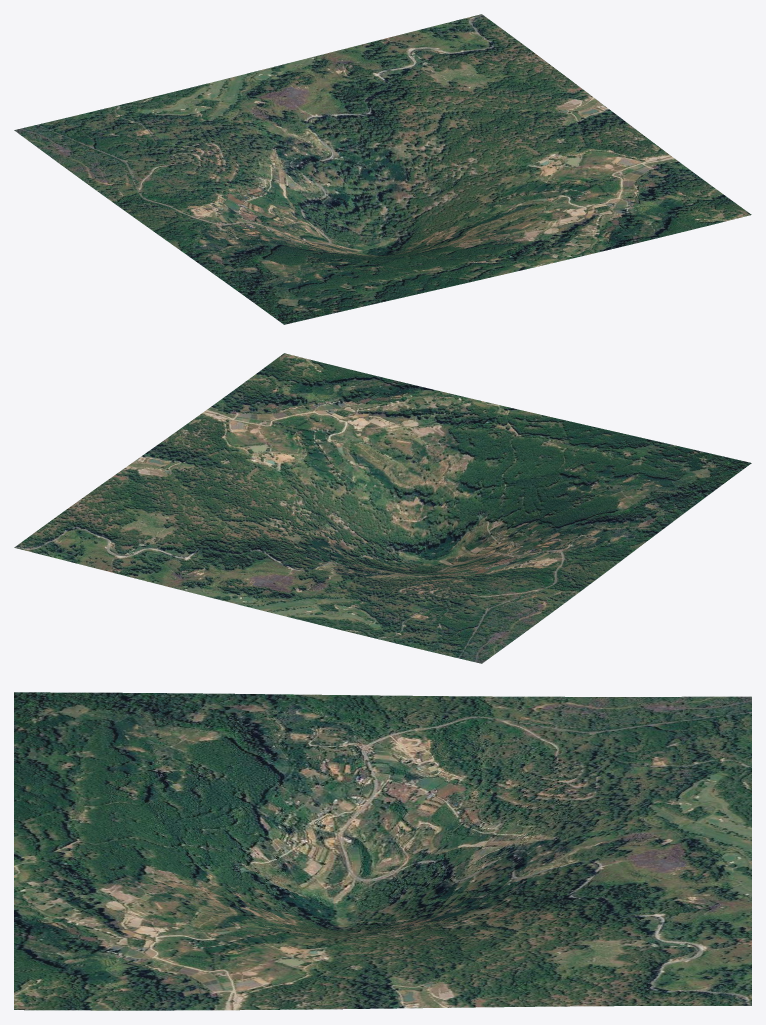
File: terrain_real_T_E00_S04.glb
3 renders of one model, top to bottom at view 1: azimuth 30°, elevation 25°; view 2: azimuth 150°, elevation 25°; view 3: azimuth 270°, elevation 25°, orthographic. The views are drawn at different scales.
Parts seen in each view (by area): view 1: Terrain_Real_DEM_T_E00_S04; view 2: Terrain_Real_DEM_T_E00_S04; view 3: Terrain_Real_DEM_T_E00_S04.
Part boxes in pixels (x1,y1,x2,y2): Terrain_Real_DEM_T_E00_S04: (14, 14, 751, 324); Terrain_Real_DEM_T_E00_S04: (14, 353, 751, 663); Terrain_Real_DEM_T_E00_S04: (14, 692, 751, 1010).
Size of the model in its own units: 2000 by 249 by 2000.
1 material, 1 textured.
